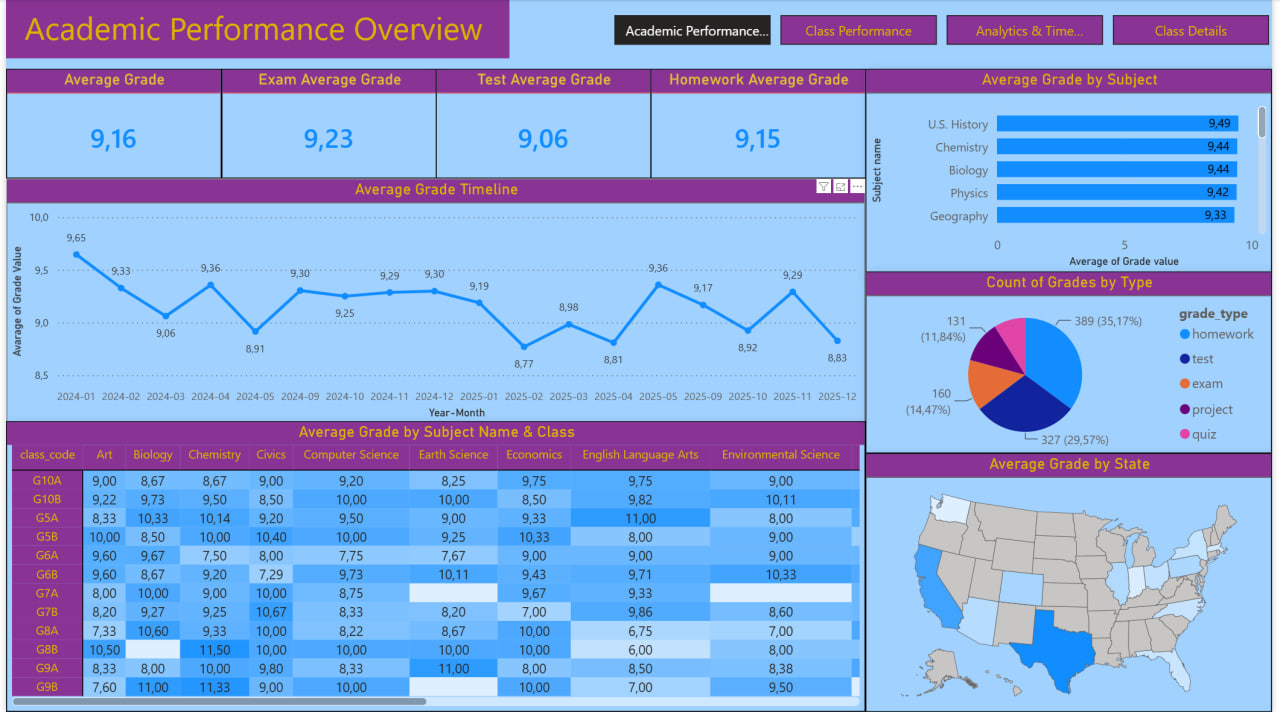

The page's visual inventory and layout, read from the dashboard file:
{"tool":"powerbi","page":{"name":"Academic Performance Overview ","canvas":[1280,720],"ordinal":0},"visuals":[{"type":"cardVisual","title":"Average Grade","fields":{"Data":["Avg(grades.grade_value)"]},"box":[0,69.4,217.6,111.2],"z":0,"group":"g1"},{"type":"barChart","title":"Average Grade by Subject","fields":{"Y":["Avg(grades.grade_value)"],"Category":["subjects.subject_name"]},"box":[868.8,69.4,411.2,205.5],"z":0,"group":"g2"},{"type":"lineChart","title":"Average Grade Timeline","fields":{"Category":["CalendarTest.Year-Month"],"Y":["Avg(grades.grade_value)"]},"box":[0,180.6,868.8,247.5],"z":0},{"type":"cardVisual","title":"Exam Average Grade","fields":{"Data":["Avg(grades.grade_value)"]},"box":[217.6,69.4,217.6,111.2],"z":1000,"group":"g1"},{"type":"pivotTable","title":"Average Grade by Subject Name & Class","fields":{"Rows":["classes.class_code"],"Columns":["subjects.subject_name"],"Values":["Avg(grades.grade_value)"]},"box":[0,426,869.1,294.3],"z":1000},{"type":"group","id":"g1","title":"Група 1","box":[0,69.4,869.4,111.2],"z":2000},{"type":"cardVisual","title":"Test Average Grade","fields":{"Data":["_Measures.Average_Grade_24_25"]},"box":[434.3,69.4,217.6,111.2],"z":2000,"group":"g1"},{"type":"cardVisual","title":"Homework Average Grade","fields":{"Data":["_Measures.Average_Grade_24_25"]},"box":[651.8,69.4,217.6,111.2],"z":3000,"group":"g1"},{"type":"group","id":"g2","title":"Група 2","box":[868.8,69.4,411.2,650.6],"z":3000},{"type":"pieChart","title":"Count of Grades by Type","fields":{"Category":["grades.grade_type"],"Y":["Count(grades.grade_id)"]},"box":[869,274.7,411.1,184],"z":3000,"group":"g2"},{"type":"textbox","title":"рпвапрв","box":[0,0,509.4,59.4],"z":4000},{"type":"shapeMap","title":"Average Grade by State","fields":{"Category":["students.state"],"Value":["Sum(grades.grade_value)"]},"box":[868.8,458,411.2,262],"z":4000,"group":"g2"},{"type":"pageNavigator","box":[615,15,665,30],"z":5000}]}

Visuals, with their boxes in screenshot pixels (x1, y1, x2, y2), scaled from the page's 1280x720 canvas onto the 1280x712 screenshot:
"Average Grade" cardVisual: crop(0, 69, 218, 179)
"Average Grade by Subject" barChart: crop(869, 69, 1279, 272)
"Average Grade Timeline" lineChart: crop(0, 179, 869, 423)
"Exam Average Grade" cardVisual: crop(218, 69, 435, 179)
"Average Grade by Subject Name & Class" pivotTable: crop(0, 421, 869, 711)
"Група 1" group: crop(0, 69, 869, 179)
"Test Average Grade" cardVisual: crop(434, 69, 652, 179)
"Homework Average Grade" cardVisual: crop(652, 69, 869, 179)
"Група 2" group: crop(869, 69, 1279, 711)
"Count of Grades by Type" pieChart: crop(869, 272, 1279, 454)
"рпвапрв" textbox: crop(0, 0, 509, 59)
"Average Grade by State" shapeMap: crop(869, 453, 1279, 711)
pageNavigator: crop(615, 15, 1279, 44)
